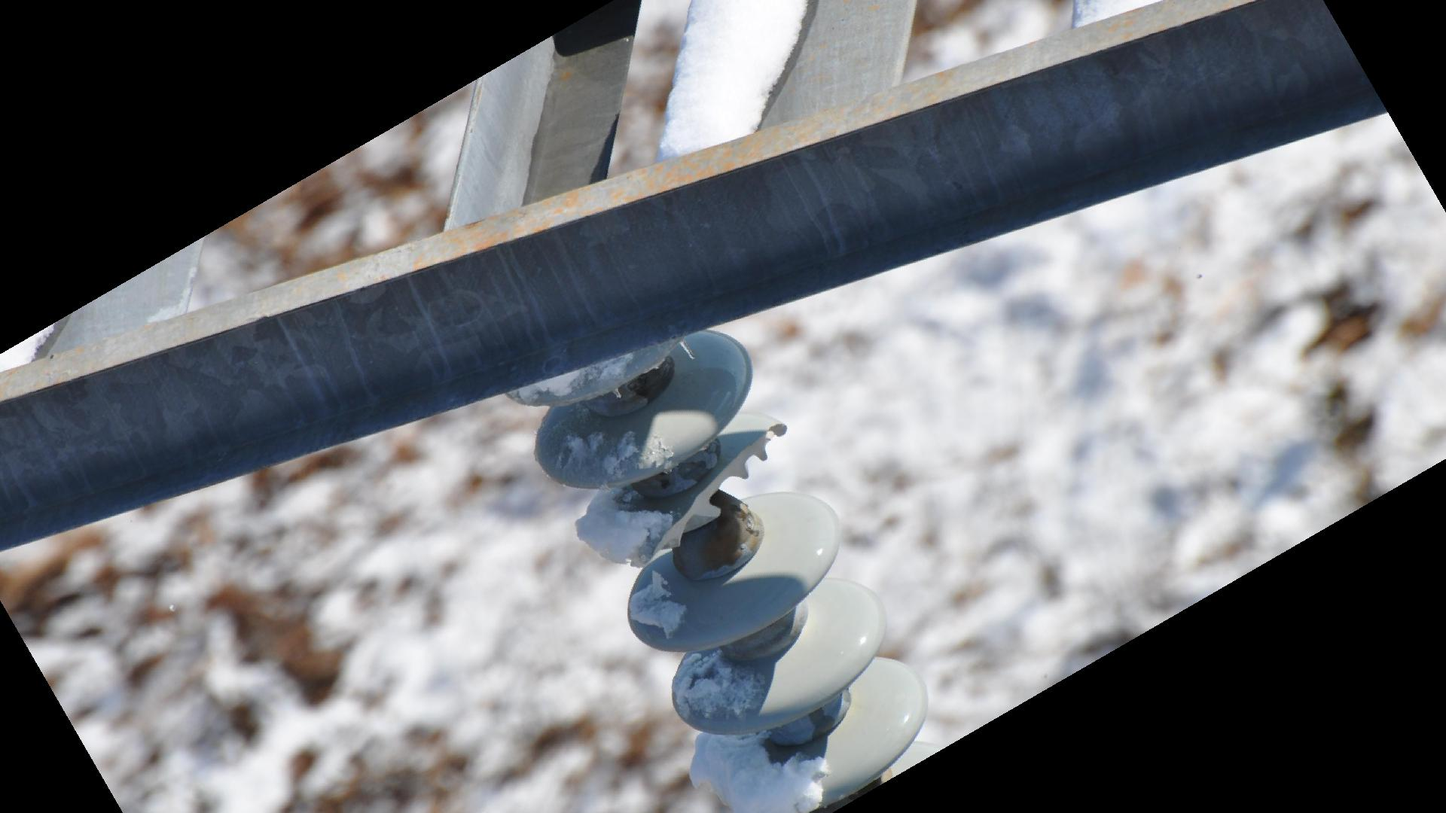insulator: (508, 330, 934, 809)
insulator_breakage: (632, 416, 791, 571)
